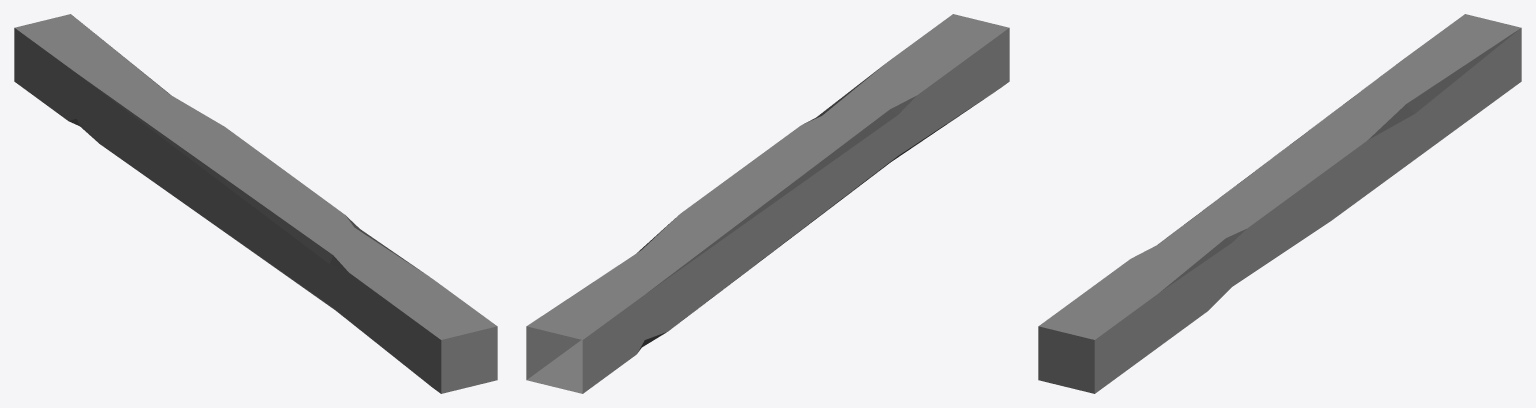
File: builder_1.FBX
3 renders of one model, left to right at view 1: azimuth 30°, elevation 25°; view 2: azimuth 150°, elevation 25°; view 3: azimuth 330°, elevation 25°, orthographic.
Visible parts, largest first — view 1: builder_1; view 2: builder_1; view 3: builder_1.
Part boxes in pixels (x1,y1,x2,y2): builder_1: (14,14,497,393); builder_1: (526,14,1009,393); builder_1: (1038,14,1521,393).
Size of the model in its own units: 9.05 by 8.28 by 119.
